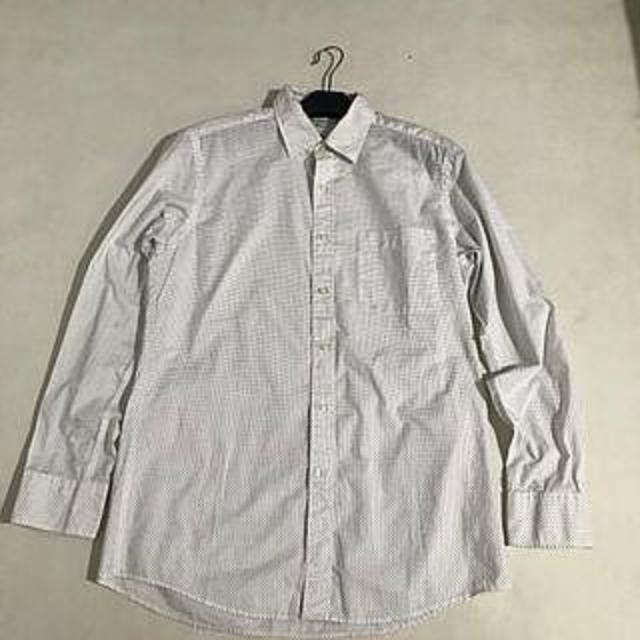SHIRT: (7, 66, 613, 636)
